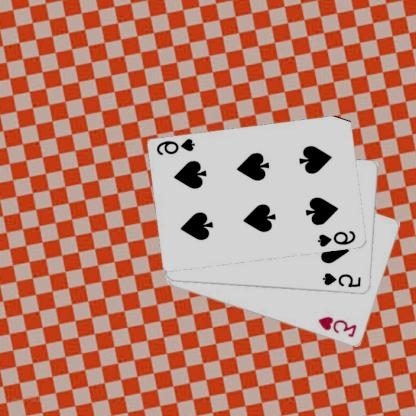3H: (317, 314, 360, 339)
5S: (322, 271, 364, 289)
6S: (156, 136, 198, 157), (316, 228, 358, 248)
